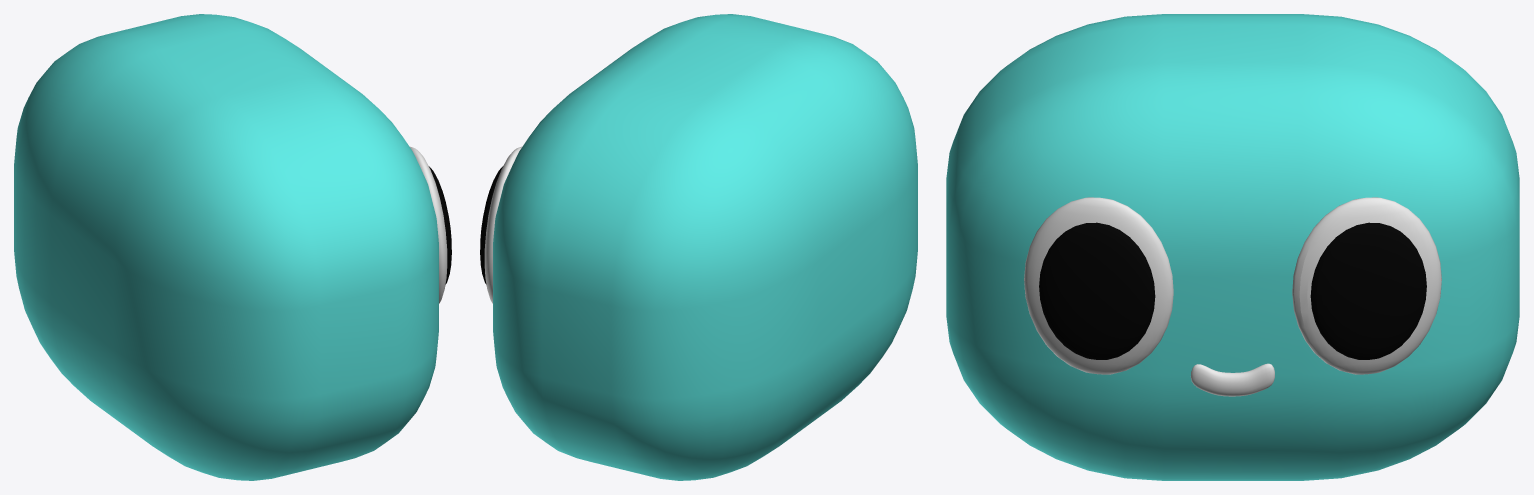
Rendered from Coco.fbx.
3 renders of one model, left to right at view 1: azimuth 30°, elevation 25°; view 2: azimuth 150°, elevation 25°; view 3: azimuth 270°, elevation 25°, orthographic. The views are drawn at different scales.
Visible parts, largest first — view 1: Body, EyeBack, Eyes; view 2: Body, EyeBack, Eyes; view 3: Body, Eyes, EyeBack, Mouth.
Part boxes in pixels (x1,y1,x2,y2): Body: [14, 14, 438, 480]; EyeBack: [410, 146, 447, 303]; Eyes: [429, 166, 451, 284]; Body: [493, 14, 917, 480]; EyeBack: [484, 146, 521, 303]; Eyes: [480, 166, 502, 284]; Body: [946, 14, 1519, 480]; Eyes: [1039, 222, 1426, 359]; EyeBack: [1024, 197, 1441, 374]; Mouth: [1190, 363, 1274, 396].
Size of the model in its own units: 165 by 191 by 243.
